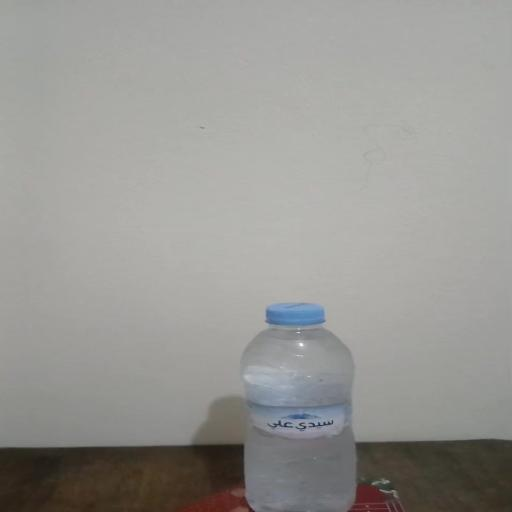bouteille conformite: (245, 300, 371, 512)
